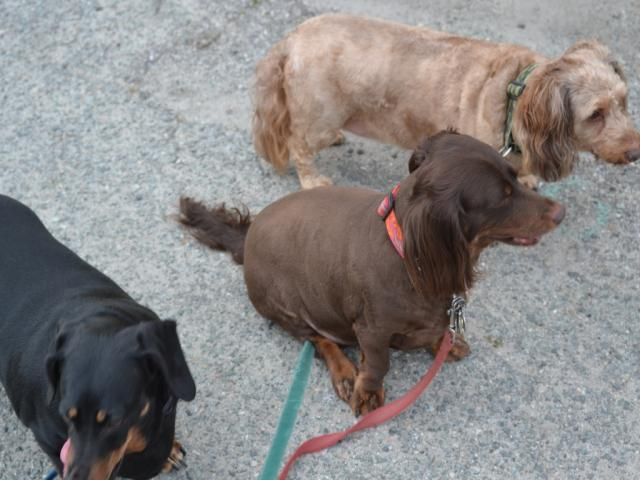Dog: (172, 126, 567, 419), (249, 12, 637, 187), (0, 194, 196, 480)
